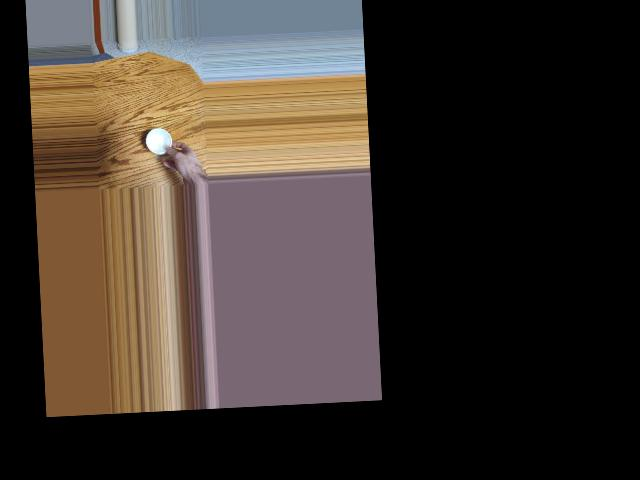cotage: (144, 127, 175, 157)
